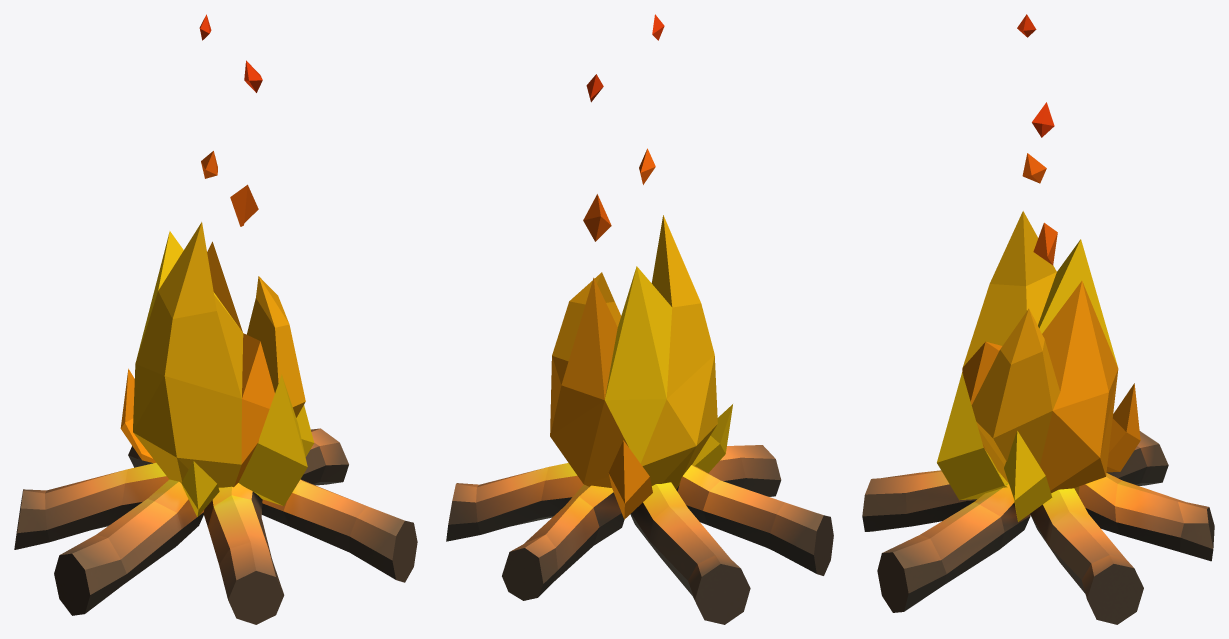
The model's file is campfire.glb.
3 views of the same model, side by side, from view 1: azimuth 30°, elevation 25°; view 2: azimuth 150°, elevation 25°; view 3: azimuth 270°, elevation 25° (orthographic). The views are drawn at different scales.
Visible parts, largest first — view 1: campfire; view 2: campfire; view 3: campfire.
Boxes of the visible parts, left/top/right/bottom form: campfire: left=14, top=14, right=417, bottom=624; campfire: left=446, top=14, right=833, bottom=624; campfire: left=862, top=14, right=1214, bottom=624.
Bounding box in the file's own units: 1.68 × 2.67 × 1.59.
Materials: 1 (1 with a texture image).
